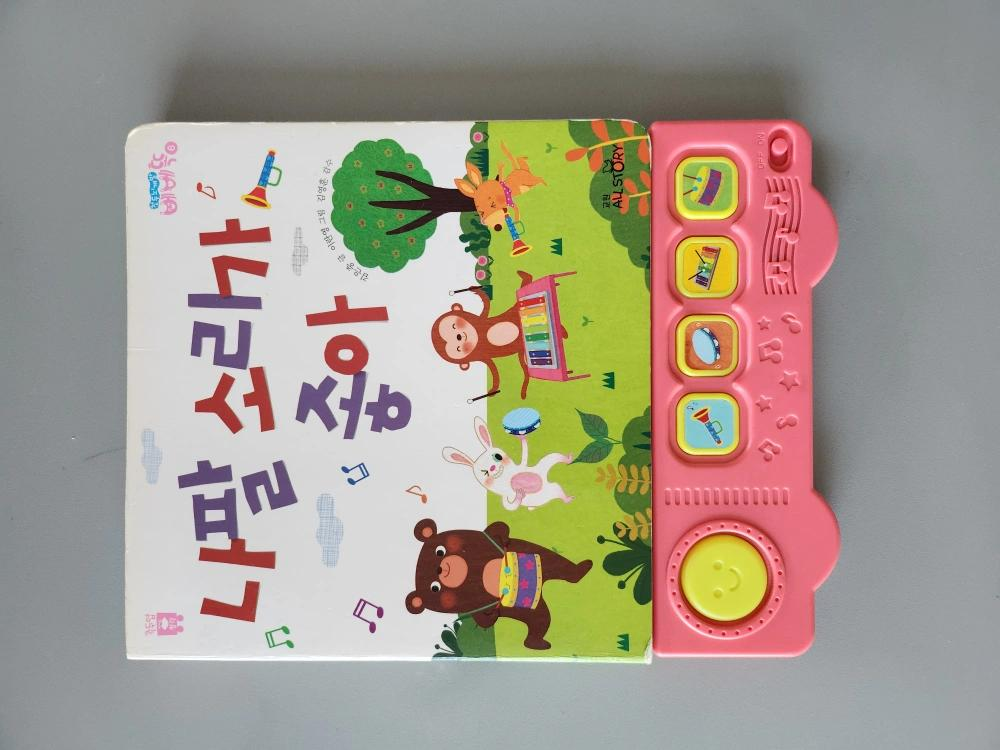book: (123, 118, 655, 662)
